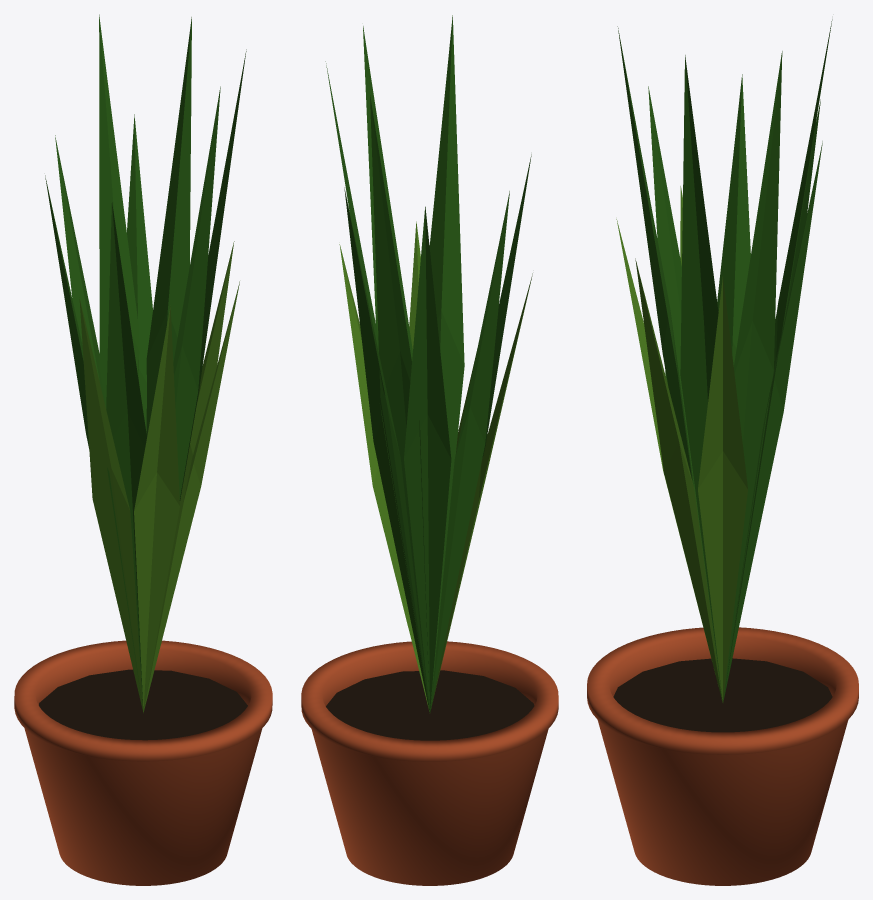
File: Anyosnyelv.obj
The picture shows the model from 3 angles, left to right: view 1: azimuth 30°, elevation 25°; view 2: azimuth 150°, elevation 25°; view 3: azimuth 270°, elevation 25°; orthographic projection. The views are drawn at different scales.
Size of the model in its own units: 0.2704 by 0.92 by 0.2704.
